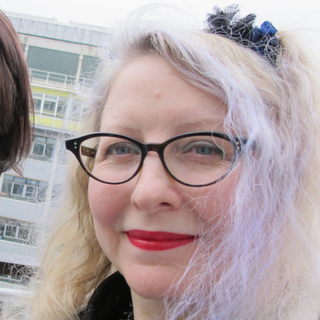eye: (174, 138, 232, 166), (102, 140, 143, 162)
